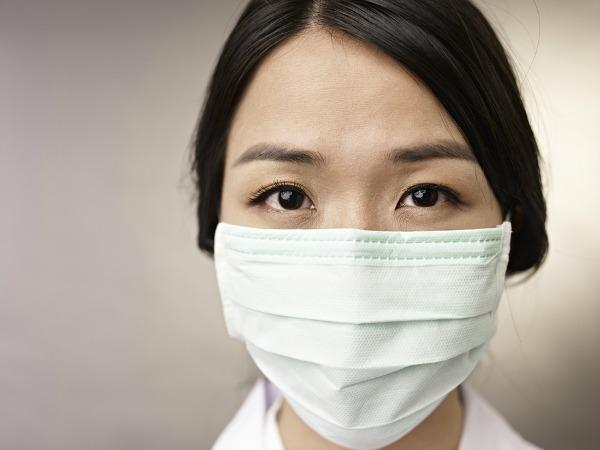Wearing Mask: (184, 0, 543, 450)
